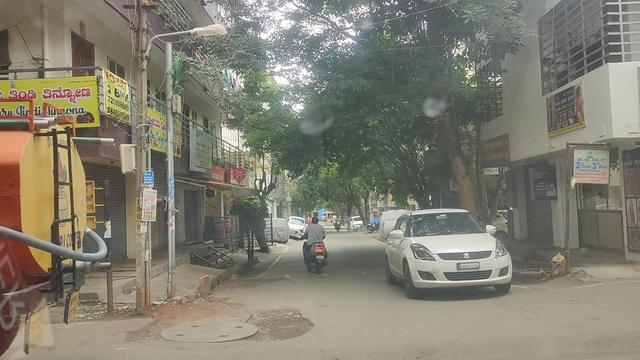LMV: (380, 214, 512, 298), (301, 219, 330, 274)
RoadDamages: (150, 305, 305, 343)
